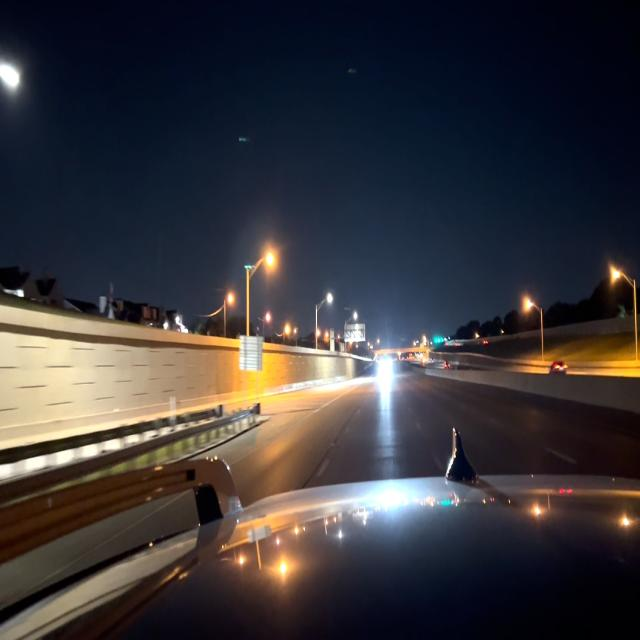back-of-sign: (240, 335, 263, 371)
